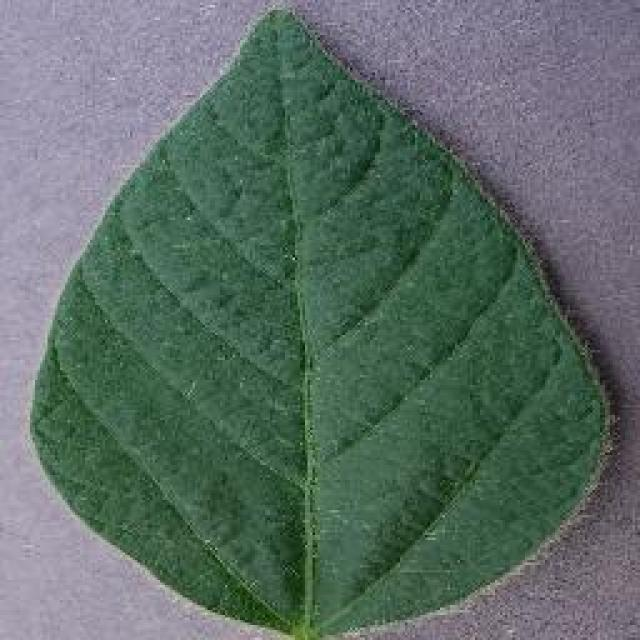Soy_healthy: (46, 66, 563, 584)
